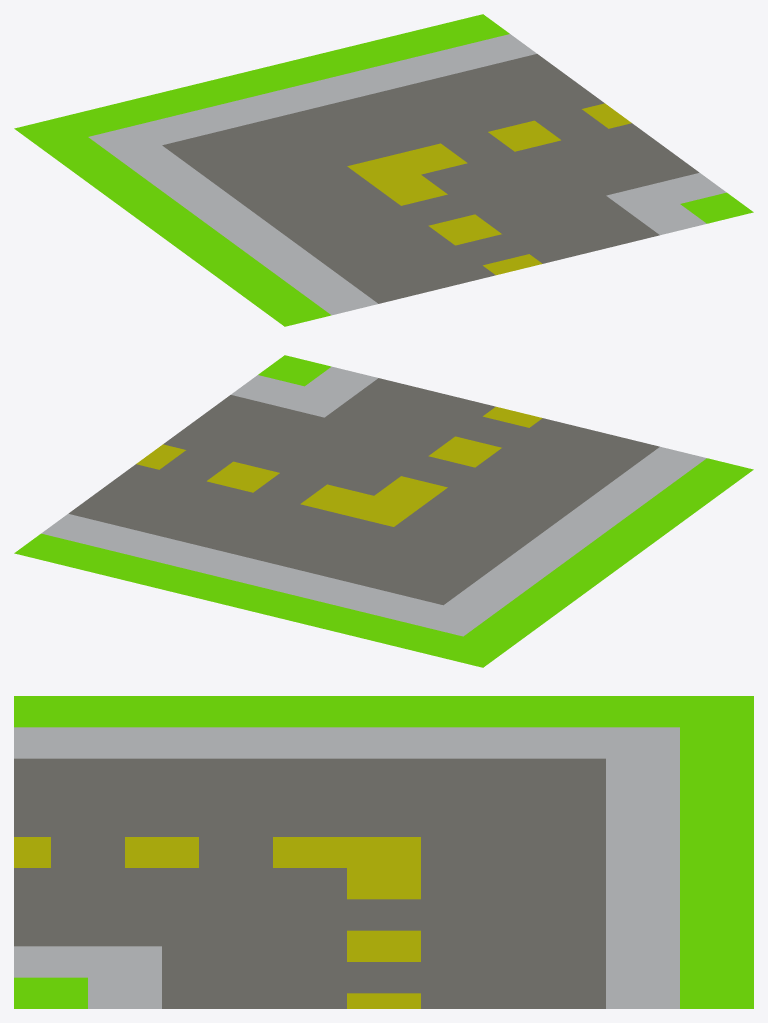
The model's file is Corner Road Tile.fbx.
3 renders of one model, top to bottom at view 1: azimuth 30°, elevation 25°; view 2: azimuth 150°, elevation 25°; view 3: azimuth 270°, elevation 25°, orthographic. The views are drawn at different scales.
Parts seen in each view (by area): view 1: Corner Road Tile; view 2: Corner Road Tile; view 3: Corner Road Tile.
Part boxes in pixels (<box>): Corner Road Tile: <box>14,14,753,326</box>; Corner Road Tile: <box>14,355,753,667</box>; Corner Road Tile: <box>14,696,753,1008</box>.
Bounding box in the file's own units: 1000 × 0.000163 × 1000.
